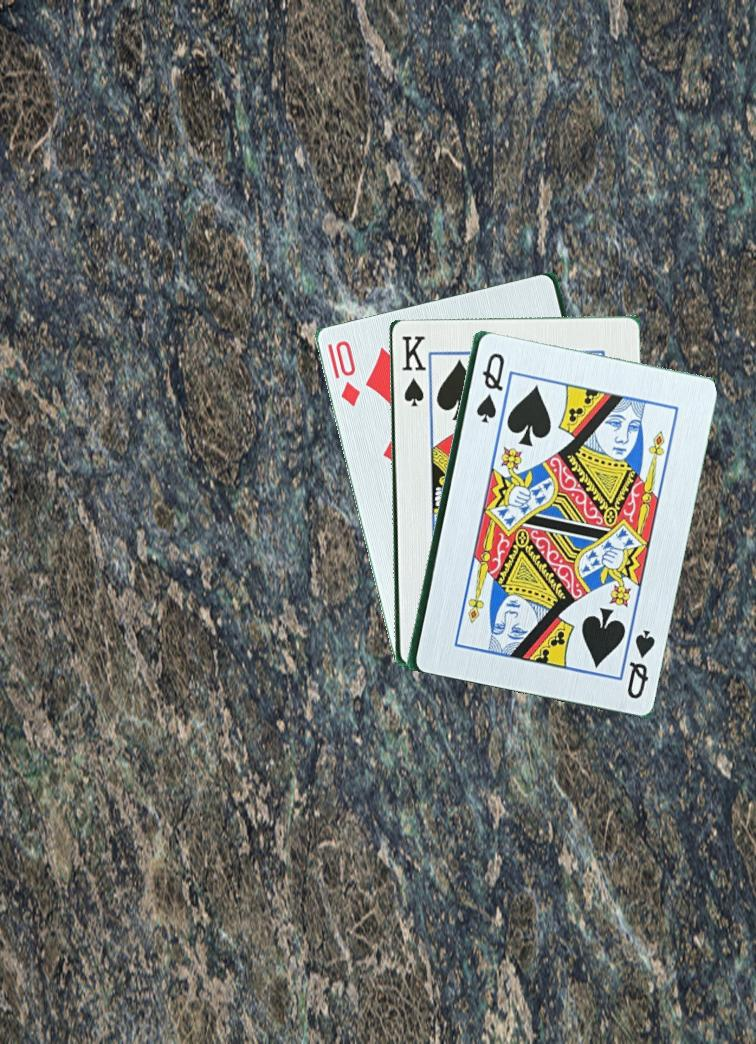ks: (398, 331, 427, 409)
qs: (623, 624, 658, 702), (472, 348, 507, 425)
td: (331, 336, 363, 409)
